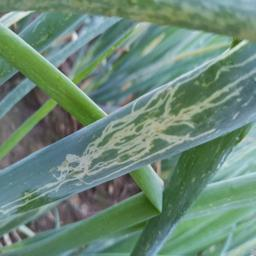liriomyza: (4, 53, 255, 212)
